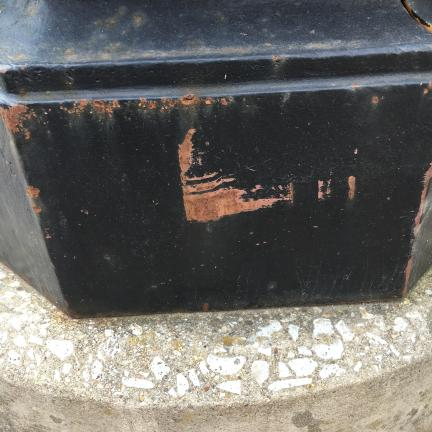karat: (179, 129, 293, 221)
